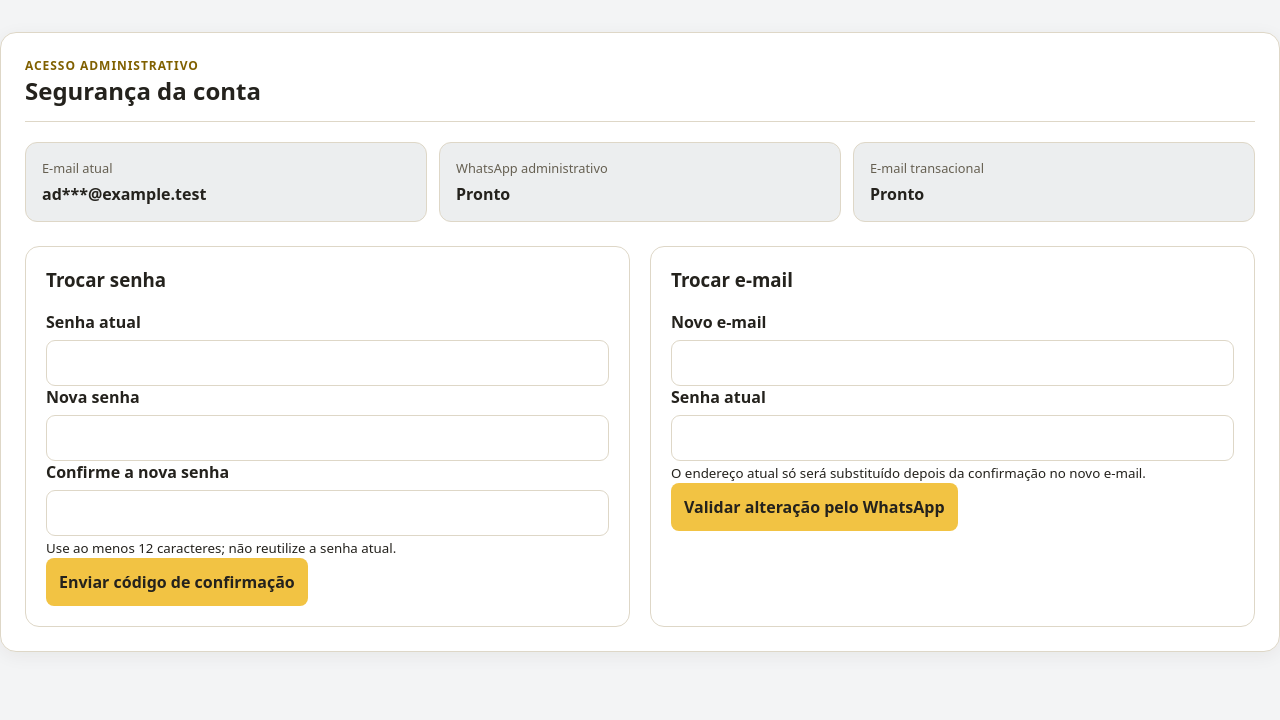
Test: segurança da conta administrativa › troca senha com reautenticação e OTP e informa o encerramento das sessões
Expected: the text "ad***@example.test" is shown, [42,183,206,205]
In the password field labelled "Senha atual" below "Trocar senha": point(328, 363) [46,340,609,386], type "senha-atual"
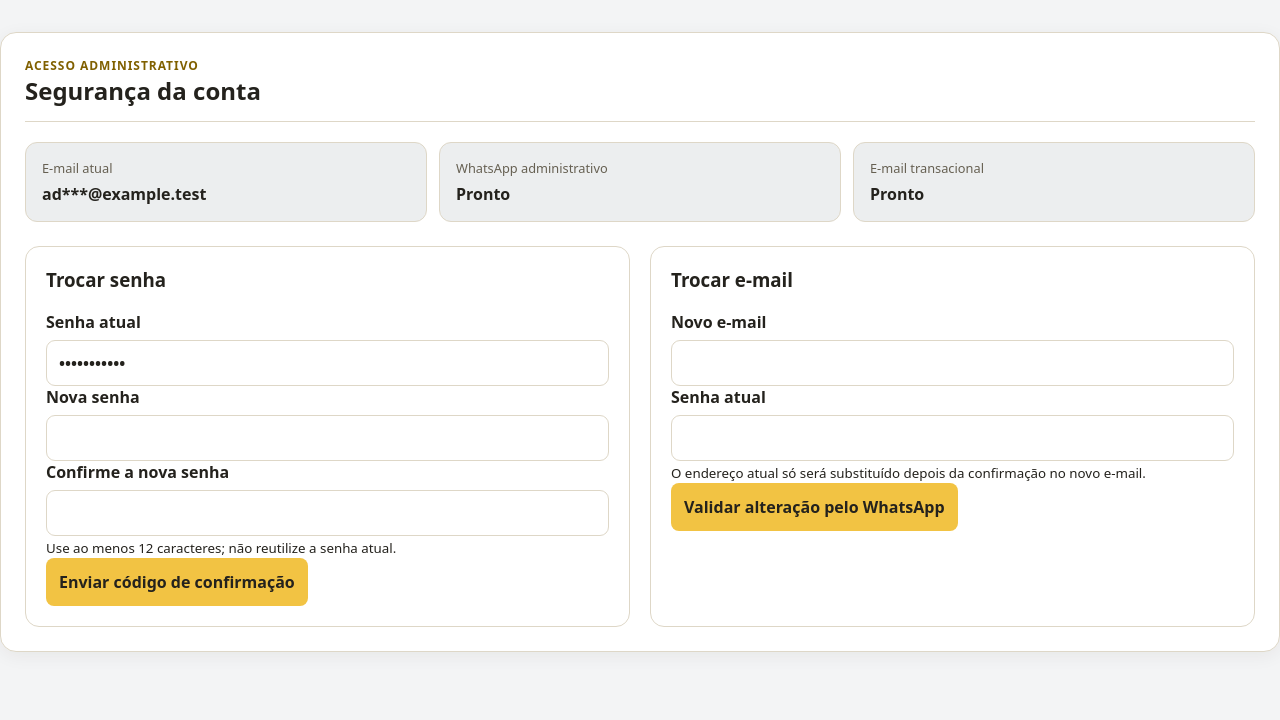
In the password field labelled "Nova senha": point(328, 438) [46,415,609,461], type "Nova-senha-segura-2026!"
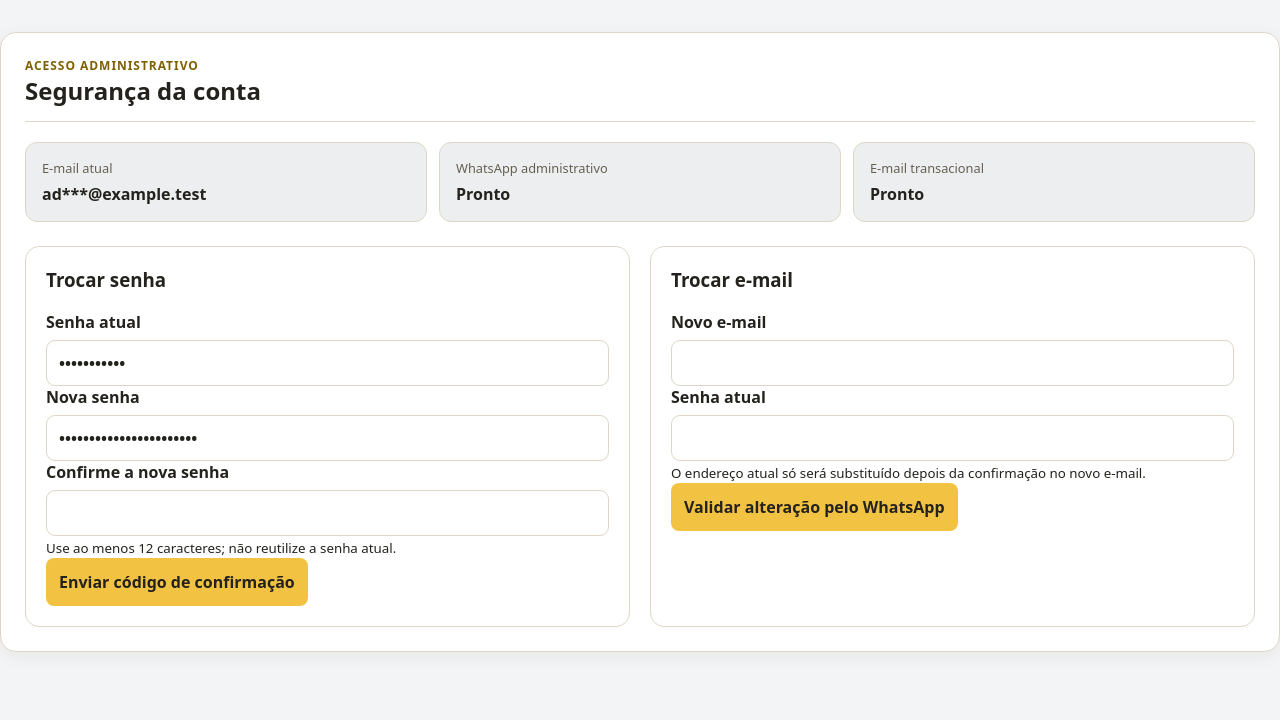
In the password field labelled "Confirme a nova senha": point(328, 513) [46,490,609,536], type "Nova-senha-segura-2026!"
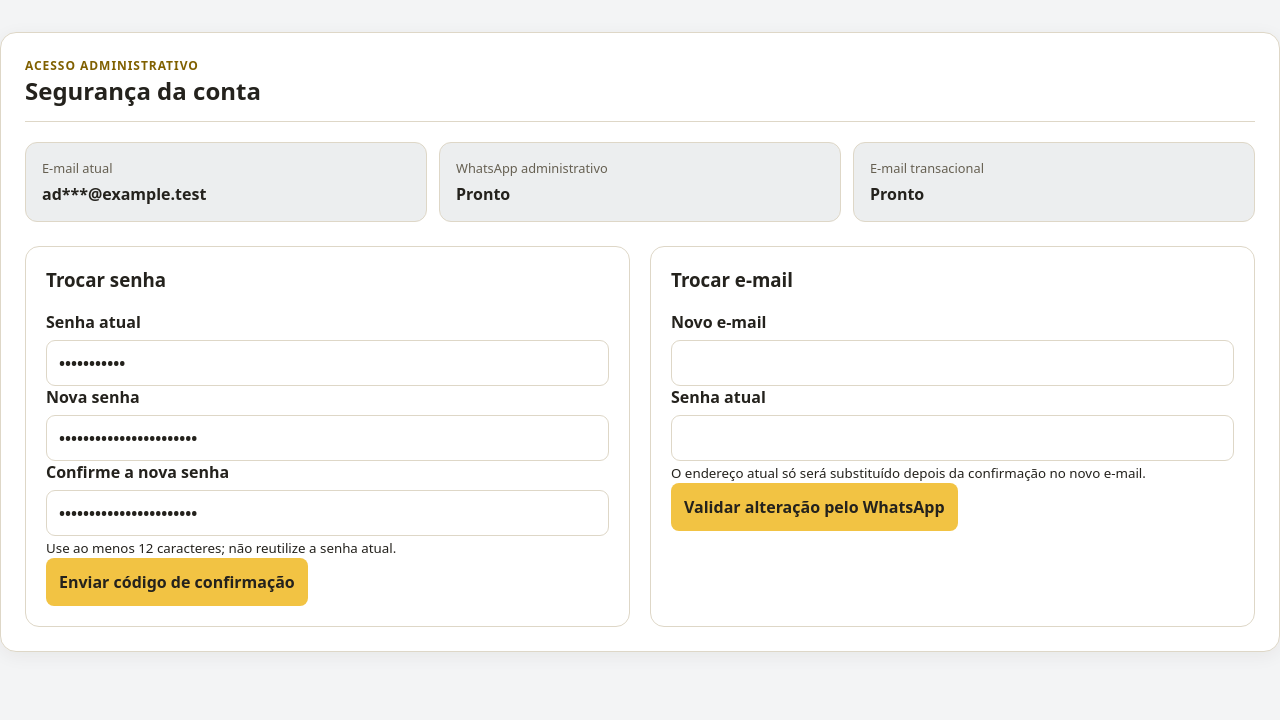
Click the button "Enviar código de confirmação": point(177, 582) [46,558,308,606]
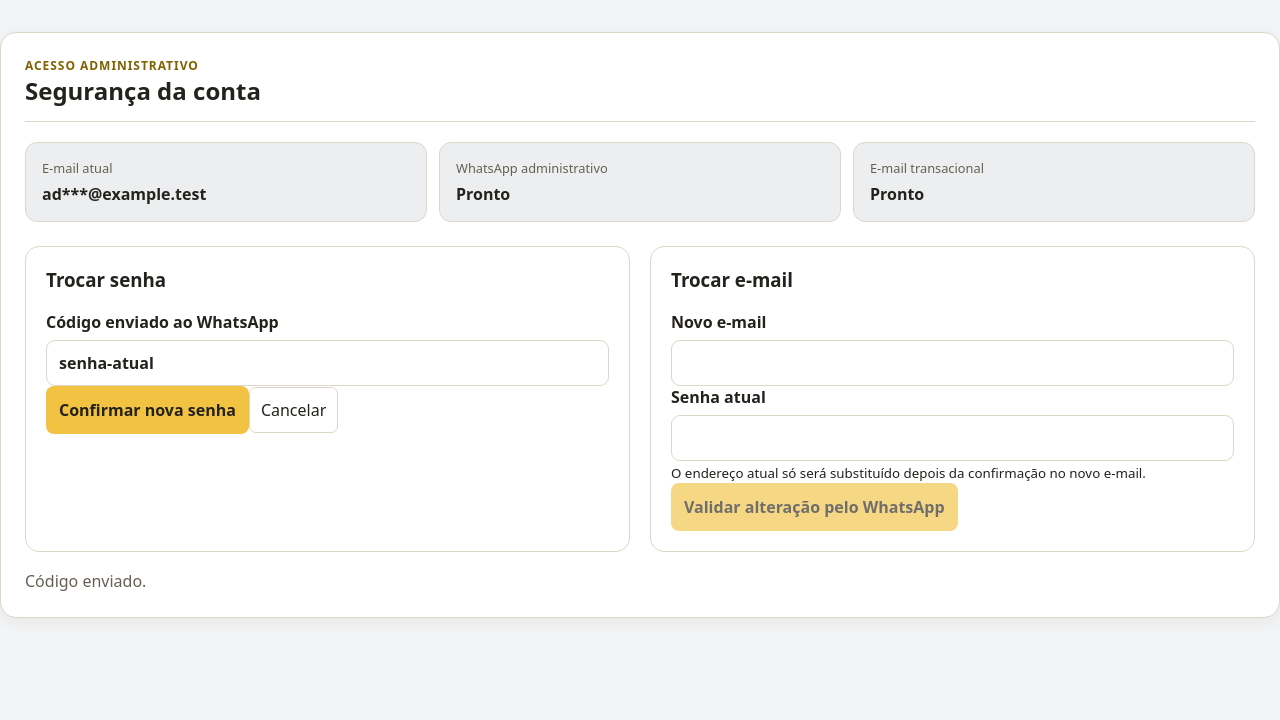
Replace the text in the field labelled "Código enviado ao WhatsApp" with "123456": point(328, 363) [46,340,609,386]
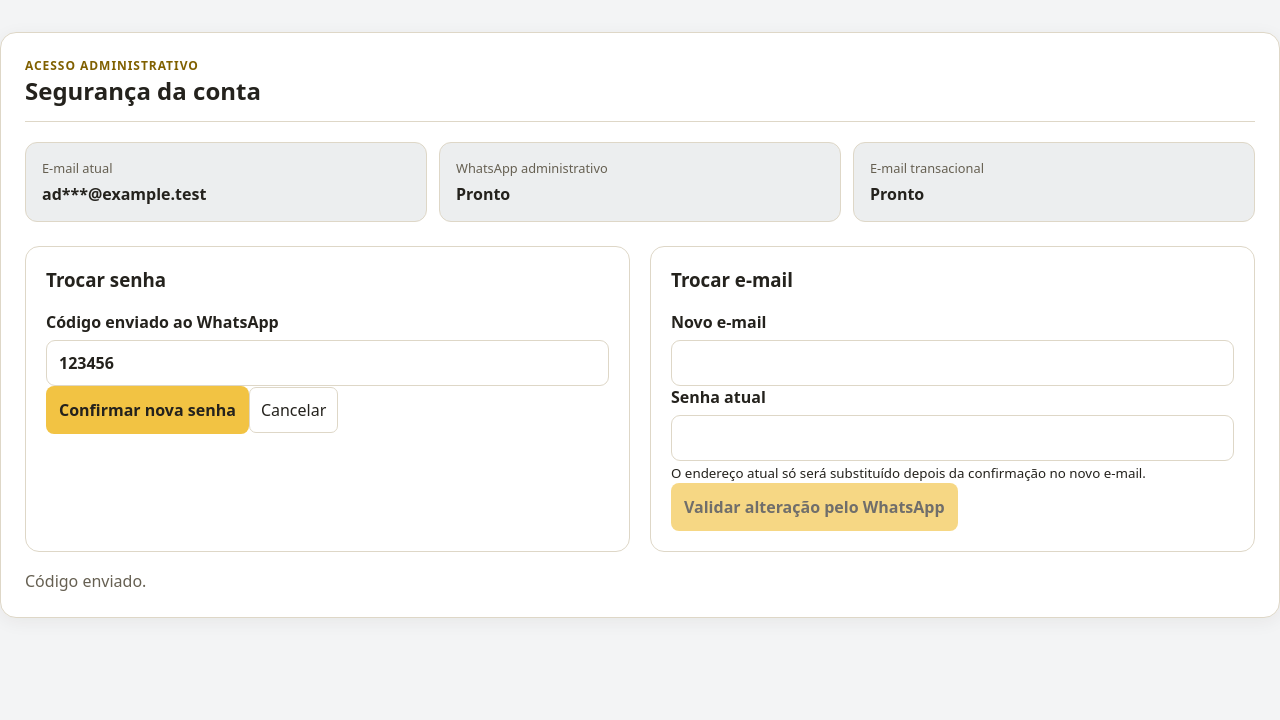
Click the button "Confirmar nova senha": point(147, 410) [46,386,249,434]
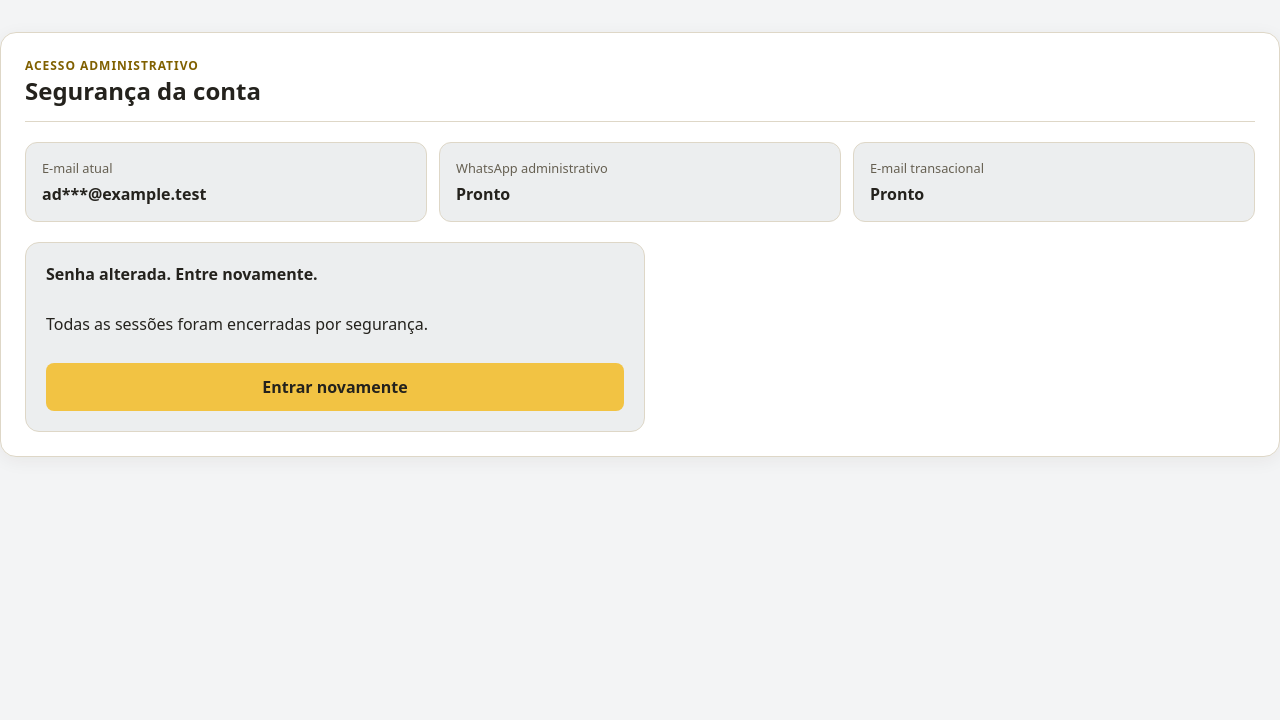
Expected: the text "Todas as sessões foram encerradas por segurança." is shown, [46,313,428,335]
